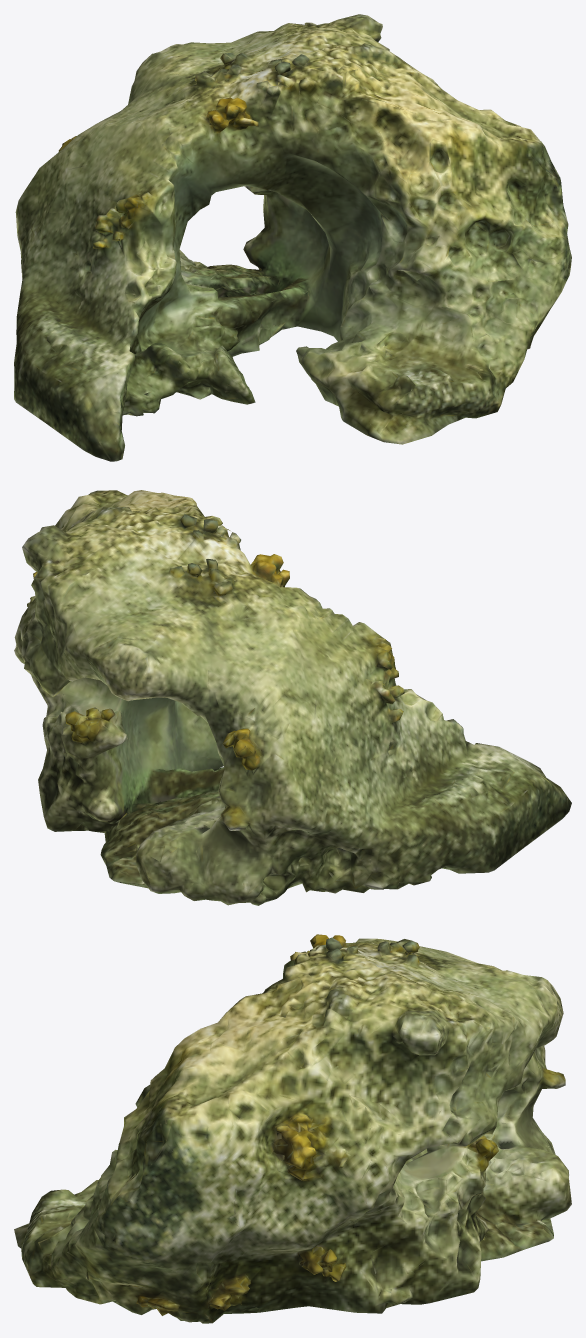
The model's file is rock_3.glb.
The picture shows the model from 3 angles, top to bottom: view 1: azimuth 30°, elevation 25°; view 2: azimuth 150°, elevation 25°; view 3: azimuth 270°, elevation 25°; orthographic projection. The views are drawn at different scales.
Parts seen in each view (by area): view 1: Mesh1.0; view 2: Mesh1.0; view 3: Mesh1.0.
Part boxes in pixels (left/top/right/bottom): Mesh1.0: left=14, top=14, right=571, bottom=461; Mesh1.0: left=14, top=490, right=571, bottom=905; Mesh1.0: left=14, top=934, right=571, bottom=1323.
Size of the model in its own units: 1.91 by 1.05 by 1.74.
1 material, 1 textured.
